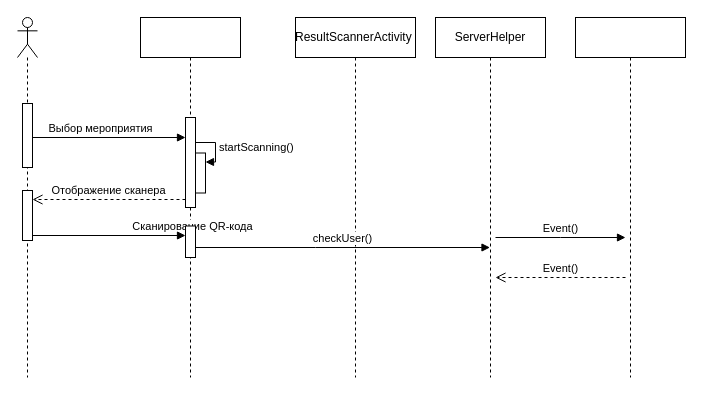
This 703x395 diagram has some shape labels left out. Each missing label, with the box of its shape:
MyEvent: (574, 16, 686, 378)
ScannerActivity: (140, 16, 240, 378)
